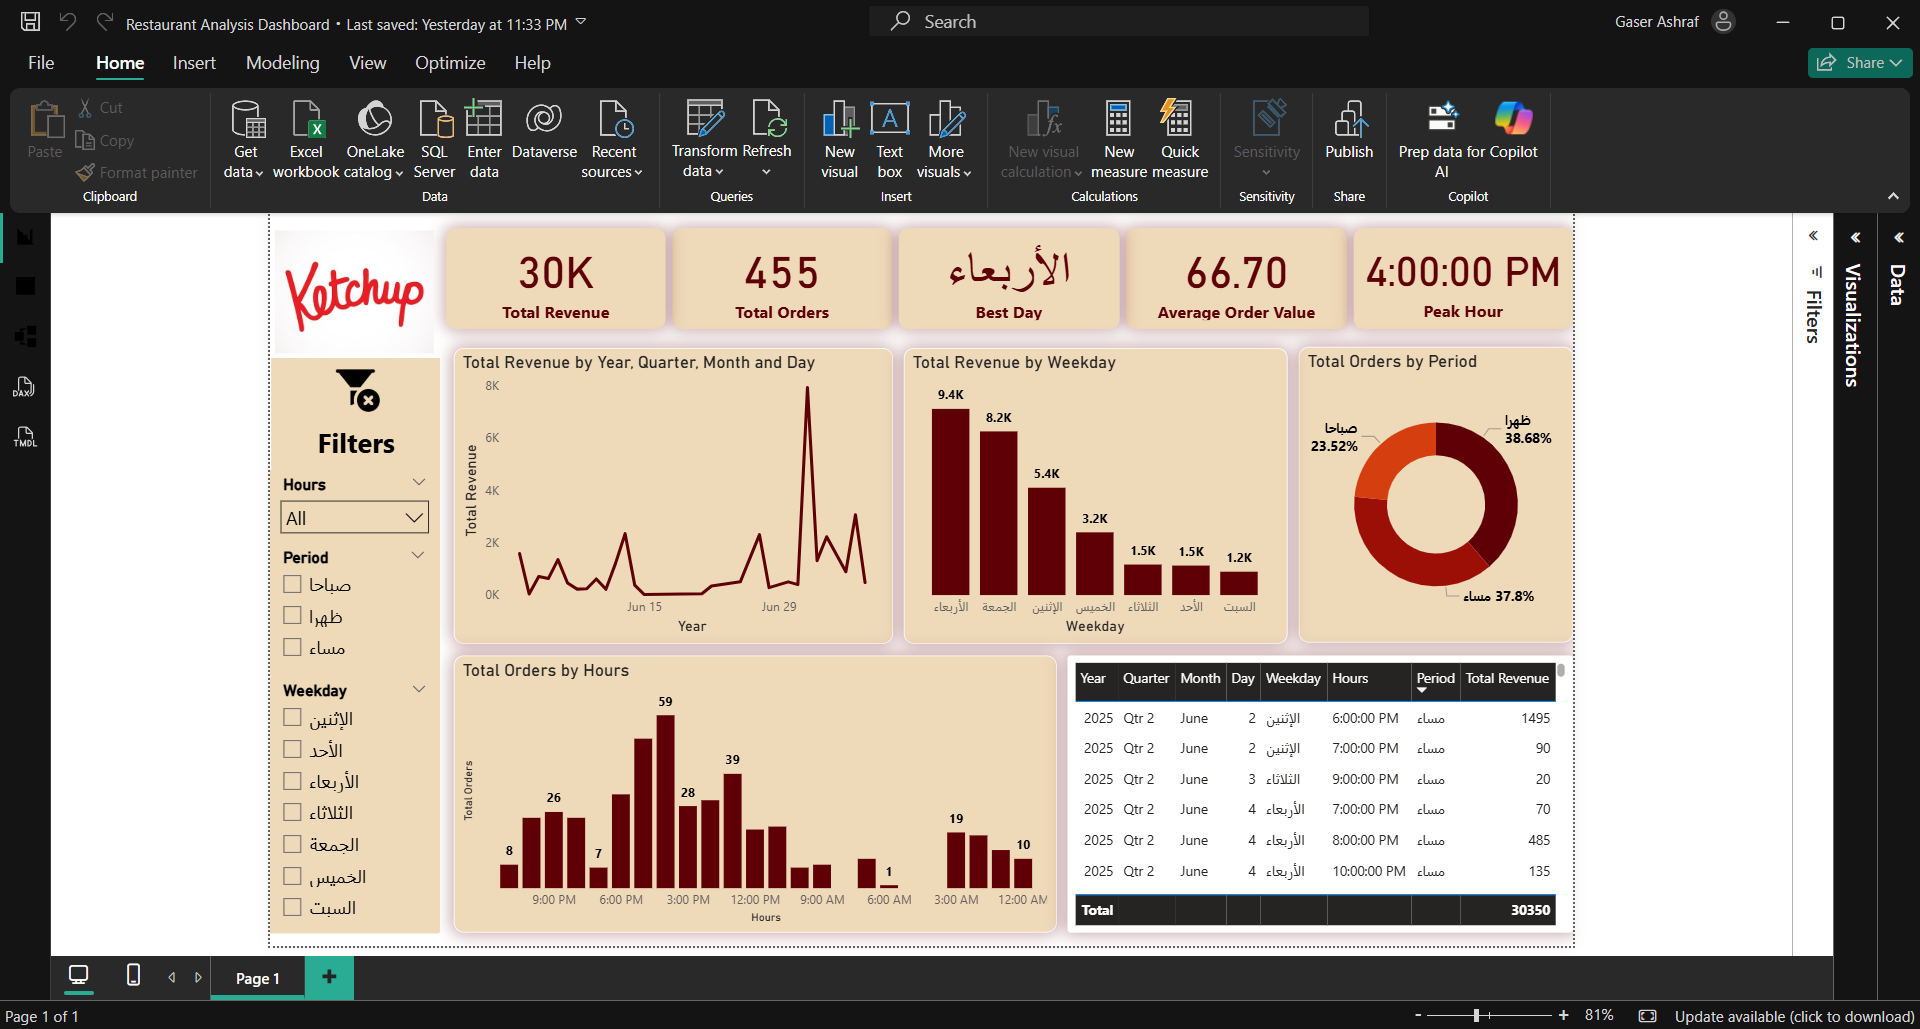

This screenshot's page, from the dashboard's own definition file:
{"tool":"powerbi","page":{"name":"Page 1","canvas":[1280,720],"ordinal":0},"visuals":[{"type":"card","fields":{"Values":["Dax Measures.Total Orders"]},"box":[394.6,14.7,215.5,99.3],"z":0},{"type":"card","fields":{"Values":["Dax Measures.Total Revenue"]},"box":[173.1,14.7,215.5,99.3],"z":1000},{"type":"card","fields":{"Values":["Dax Measures.Average Order Value"]},"box":[840.1,14.7,216.7,99.3],"z":2000},{"type":"card","fields":{"Values":["Dax Measures.Best Day"]},"box":[617.4,14.7,216.7,99.3],"z":3000},{"type":"card","fields":{"Values":["Dax Measures.Peak Hour"]},"box":[1064,14.7,215.5,99.3],"z":4000},{"type":"lineChart","fields":{"Y":["Dax Measures.Total Revenue"],"Category":["Orders.OrderDate.Variation.Date Hierarchy.Year","Orders.OrderDate.Variation.Date Hierarchy.Quarter","Orders.OrderDate.Variation.Date Hierarchy.Month","Orders.OrderDate.Variation.Date Hierarchy.Day"]},"box":[180.1,132.2,430.9,290.5],"z":5000},{"type":"donutChart","fields":{"Y":["Dax Measures.Total Orders"],"Category":["Orders.Period"]},"box":[1009.6,131.7,269.9,290.8],"z":6000},{"type":"clusteredColumnChart","fields":{"Y":["Dax Measures.Total Revenue"],"Category":["Orders.Weekday"]},"box":[621.9,132.2,376.5,290.5],"z":7000},{"type":"clusteredColumnChart","fields":{"Y":["Dax Measures.Total Orders"],"Category":["Orders.Hours"]},"box":[180.4,434.6,591.9,272.4],"z":8000},{"type":"tableEx","fields":{"Values":["Orders.DateTime.Variation.Date Hierarchy.Year","Orders.DateTime.Variation.Date Hierarchy.Quarter","Orders.DateTime.Variation.Date Hierarchy.Month","Orders.DateTime.Variation.Date Hierarchy.Day","Orders.Weekday","Orders.Hours","Orders.Period","Dax Measures.Total Revenue"]},"box":[783.2,434.6,496.3,272.4],"z":9000},{"type":"image","box":[0,12.1,165.8,130.7],"z":10000},{"type":"shape","box":[1.2,142.8,165.8,564.1],"z":11000},{"type":"slicer","fields":{"Values":["Orders.Hours"]},"box":[0,252.8,165.8,76.3],"z":12000},{"type":"slicer","fields":{"Values":["Orders.Weekday"]},"box":[0,455.1,165.8,251.8],"z":13000},{"type":"slicer","fields":{"Values":["Orders.Period"]},"box":[0,324.4,164.6,130.7],"z":14000},{"type":"image","box":[44.8,142.8,76.3,58.1],"z":15000},{"type":"textbox","box":[38.7,201.9,90.8,52.1],"z":16000}]}

Visuals, with their boxes on the page's 1280x720 design canvas (x1, y1, x2, y2). These are canvas units, not pixel positions in the 1920x1029 screenshot, which may show the page scaled, cropped or inside an application window:
card - Dax Measures.Total Orders: 395:15:610:114
card - Dax Measures.Total Revenue: 173:15:389:114
card - Dax Measures.Average Order Value: 840:15:1057:114
card - Dax Measures.Best Day: 617:15:834:114
card - Dax Measures.Peak Hour: 1064:15:1280:114
lineChart - Dax Measures.Total Revenue x Orders.OrderDate.Variation.Date Hierarchy.Year: 180:132:611:423
donutChart - Dax Measures.Total Orders x Orders.Period: 1010:132:1280:422
clusteredColumnChart - Dax Measures.Total Revenue x Orders.Weekday: 622:132:998:423
clusteredColumnChart - Dax Measures.Total Orders x Orders.Hours: 180:435:772:707
tableEx - Orders.DateTime.Variation.Date Hierarchy.Year x Orders.DateTime.Variation.Date Hierarchy.Quarter: 783:435:1280:707
image: 0:12:166:143
shape: 1:143:167:707
slicer - Orders.Hours: 0:253:166:329
slicer - Orders.Weekday: 0:455:166:707
slicer - Orders.Period: 0:324:165:455
image: 45:143:121:201
textbox: 39:202:130:254
